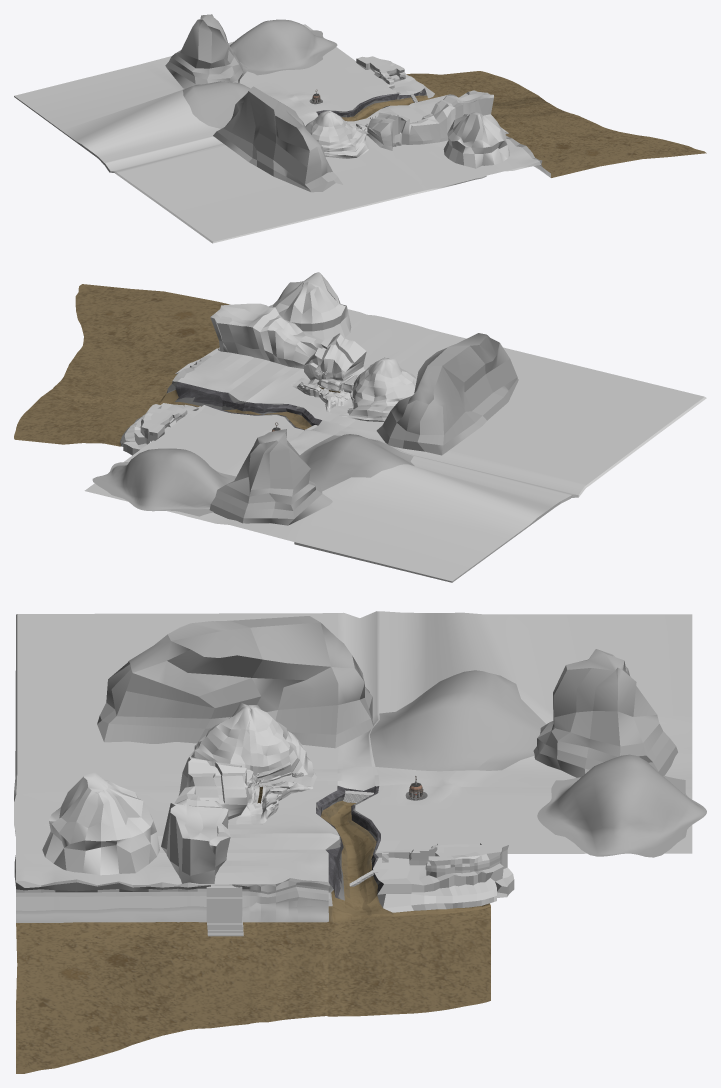
File: Terrain-MountainsFixed.fbx
3 renders of one model, top to bottom at view 1: azimuth 30°, elevation 25°; view 2: azimuth 150°, elevation 25°; view 3: azimuth 270°, elevation 25°, orthographic. The views are drawn at different scales.
Visible parts, largest first — view 1: Terrain2, beach, Mountain2, TwoMountainsHillAndStairCases_Hill, TwoMountainsHillAndStairCases_Mountain2, TwoMountainsHilAndStairCases_Mountain1, Hill, MountainMain, Mountain3rdPart, Mountain2nd, Cliff, river (+1 smaller); view 2: Terrain2, beach, Mountain2, TwoMountainsHillAndStairCases_Mountain2, TwoMountainsHillAndStairCases_Hill, Mountain3rdPart, Hill, TwoMountainsHilAndStairCases_Mountain1, MountainMain, Mountain2nd, RiverSides, Cliff (+2 smaller); view 3: Terrain2, beach, Mountain2, Hill, TwoMountainsHillAndStairCases_Hill, BeachCliff, TwoMountainsHillAndStairCases_Mountain2, TwoMountainsHilAndStairCases_Mountain1, Cliff, MountainMain, Mountain3rdPart, river (+5 smaller).
Part boxes in pixels (box(x1,y1,x2,y2)): Terrain2: box(14, 24, 540, 243); beach: box(406, 71, 706, 177); Mountain2: box(213, 86, 342, 192); TwoMountainsHillAndStairCases_Hill: box(229, 19, 337, 75); TwoMountainsHillAndStairCases_Mountain2: box(165, 14, 247, 88); TwoMountainsHilAndStairCases_Mountain1: box(443, 112, 509, 168); Hill: box(182, 81, 250, 128); MountainMain: box(305, 110, 368, 158); Mountain3rdPart: box(418, 90, 493, 143); Mountain2nd: box(366, 111, 432, 150); Cliff: box(356, 56, 434, 98); river: box(341, 93, 440, 121); Terrain2: box(84, 309, 706, 582); beach: box(14, 284, 229, 446); Mountain2: box(376, 333, 518, 455); TwoMountainsHillAndStairCases_Mountain2: box(209, 429, 332, 525); TwoMountainsHillAndStairCases_Hill: box(92, 448, 235, 516); Mountain3rdPart: box(210, 303, 315, 367); Hill: box(300, 434, 414, 491); TwoMountainsHilAndStairCases_Mountain1: box(272, 272, 351, 340); MountainMain: box(339, 357, 416, 421); Mountain2nd: box(293, 333, 366, 380); RiverSides: box(175, 381, 321, 430); Cliff: box(120, 403, 196, 455); Terrain2: box(14, 611, 692, 885); beach: box(16, 906, 490, 1073); Mountain2: box(97, 616, 373, 748); Hill: box(370, 670, 546, 771); TwoMountainsHillAndStairCases_Hill: box(537, 754, 706, 857); BeachCliff: box(16, 878, 333, 922); TwoMountainsHillAndStairCases_Mountain2: box(533, 649, 677, 777); TwoMountainsHilAndStairCases_Mountain1: box(42, 772, 159, 875); Cliff: box(373, 840, 514, 912); MountainMain: box(188, 702, 316, 783); Mountain3rdPart: box(161, 794, 230, 883); river: box(321, 800, 490, 921).
Bounding box in the file's own units: 34309 × 5937 × 24572.
